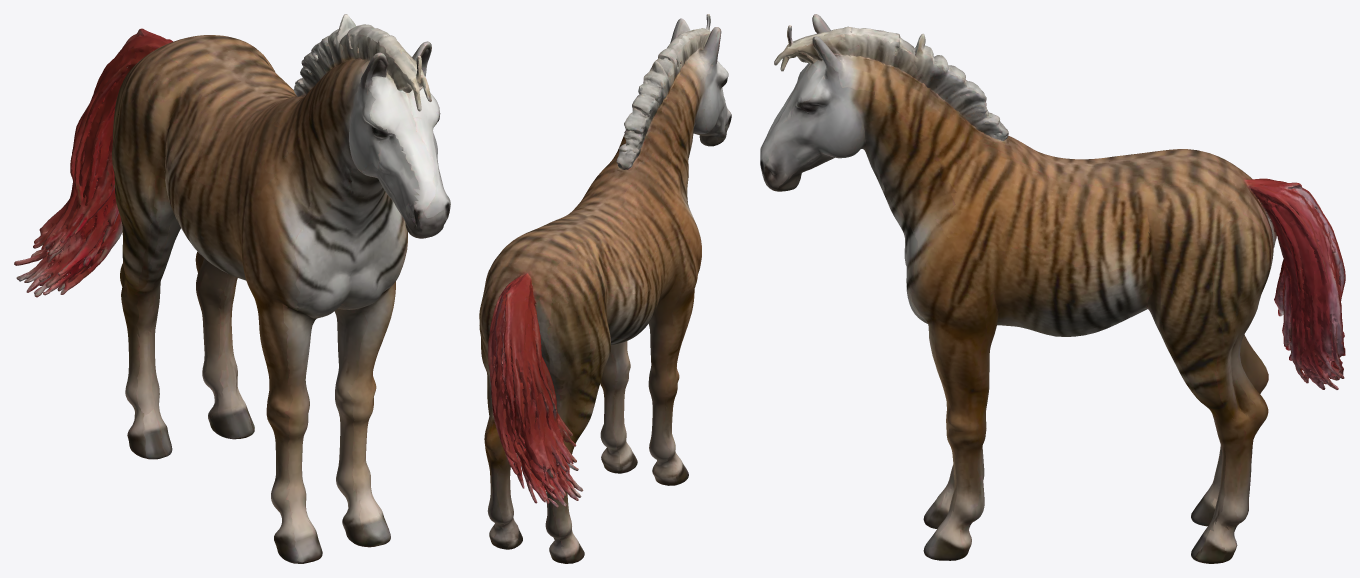
File: lushu.glb
The picture shows the model from 3 angles, left to right: view 1: azimuth 30°, elevation 25°; view 2: azimuth 150°, elevation 25°; view 3: azimuth 270°, elevation 25°; orthographic projection. The views are drawn at different scales.
Parts seen in each view (by area): view 1: geometry_0; view 2: geometry_0; view 3: geometry_0.
Boxes of the visible parts, <box> form: geometry_0: <box>14,14,450,563</box>; geometry_0: <box>479,14,731,563</box>; geometry_0: <box>760,14,1345,563</box>.
Bounding box in the file's own units: 2.4 × 6.65 × 6.87.
Materials: 1 (1 with a texture image).
